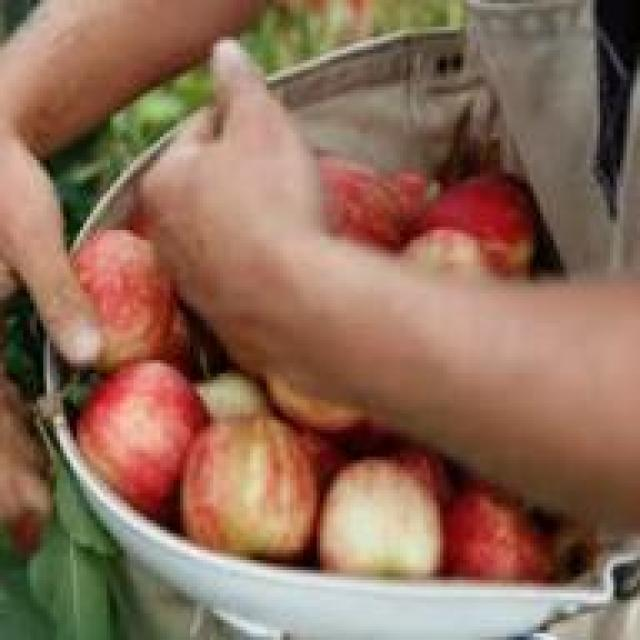apple: (180, 403, 317, 560), (43, 217, 177, 373), (73, 353, 207, 487), (310, 460, 443, 583), (420, 163, 543, 277), (453, 483, 547, 580)
